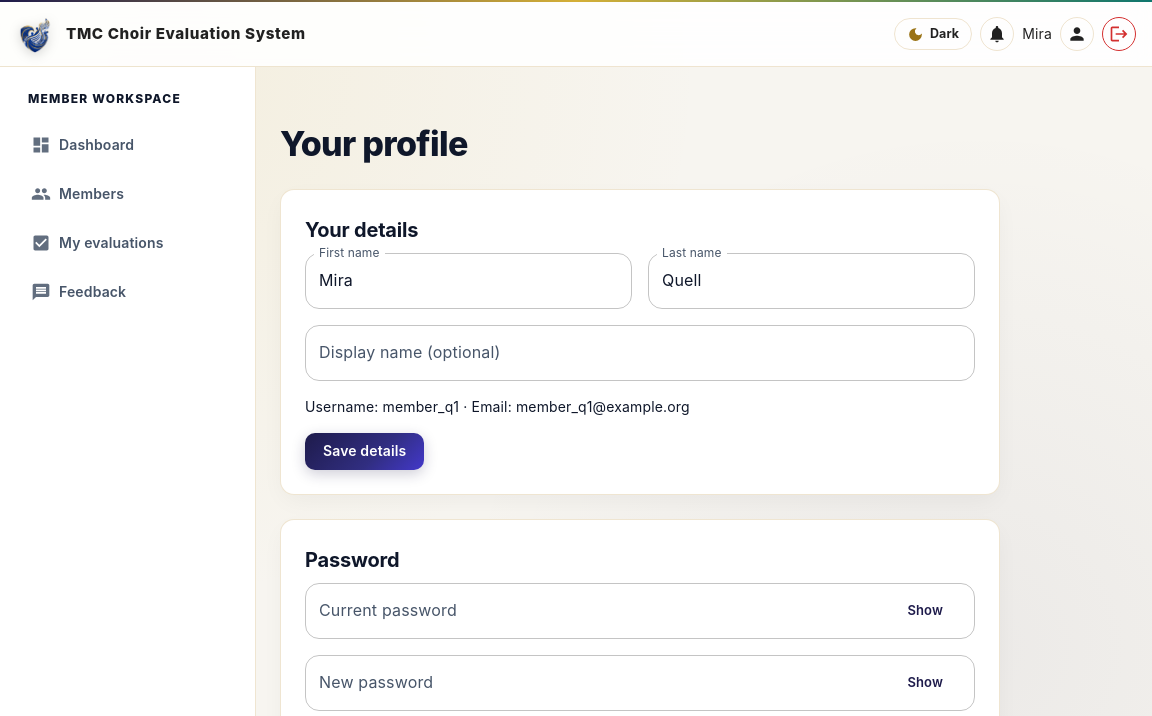
Test: ProfilePage › saves names and updates the header
Type "Mimi" into the field labelled "Display name (optional)" at coordinates (640, 353), box [305,325,975,381]
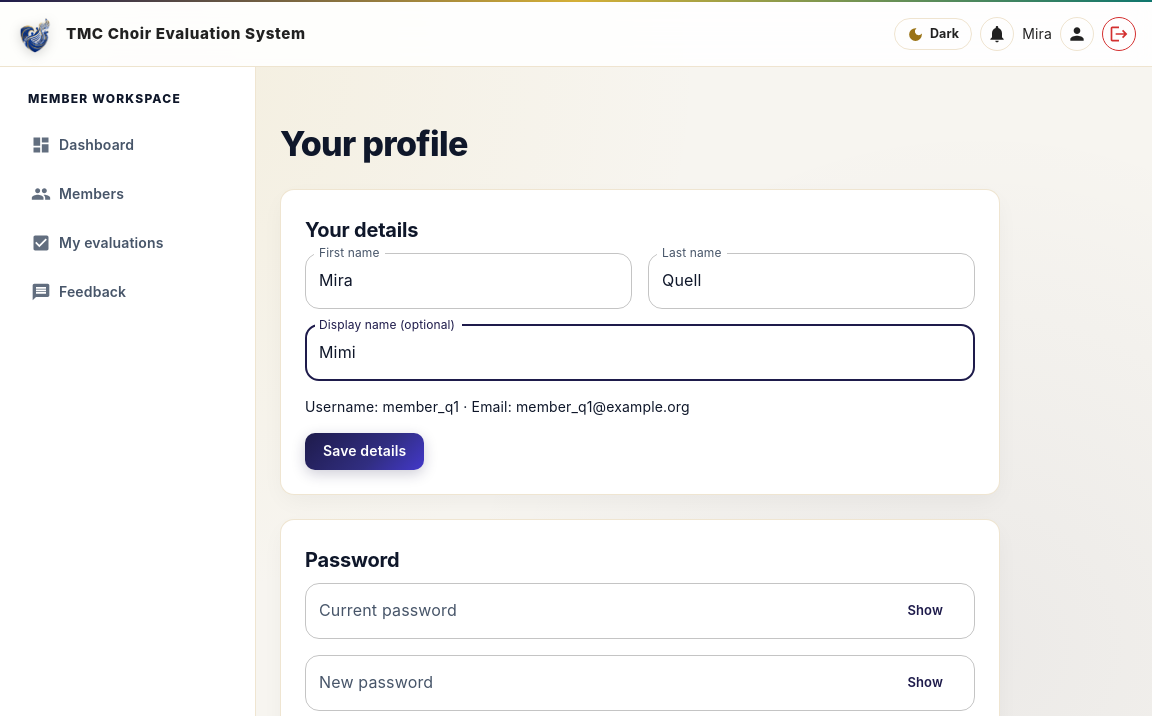
Click the button "Save details" at coordinates (365, 451), box [305,433,424,470]
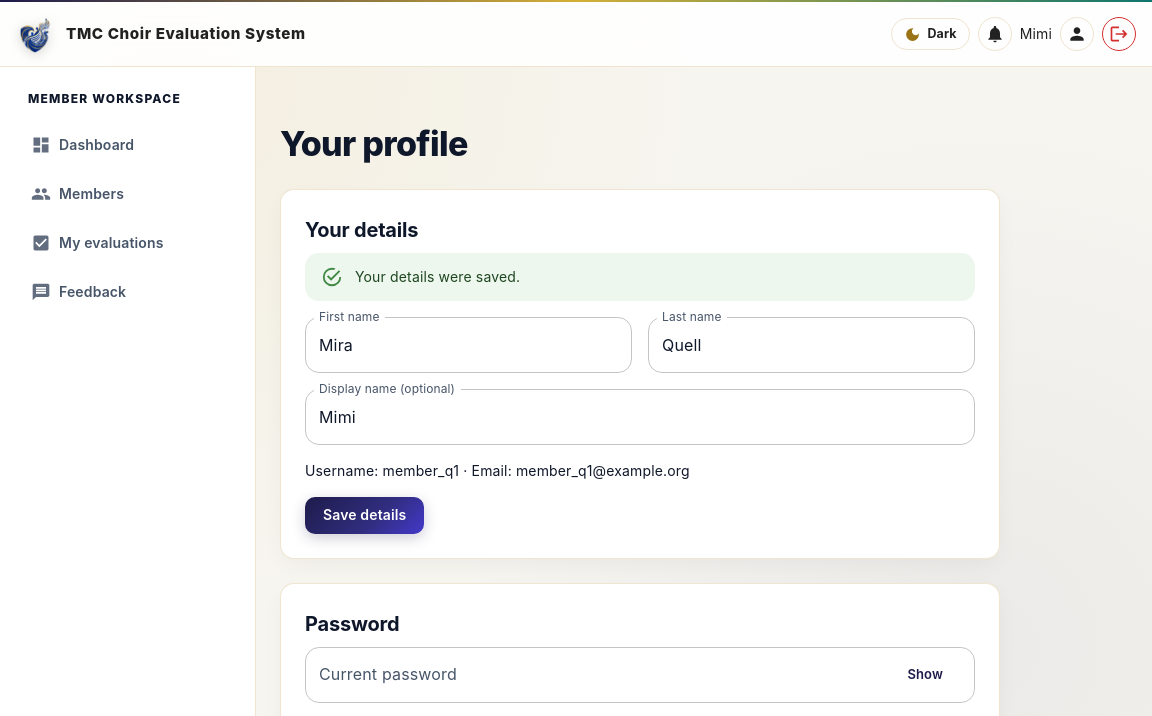
Check: the text "Your details were saved." is shown, box [355,268,520,285]
Check: the text "Mimi" is shown, box [1020,24,1052,44]
